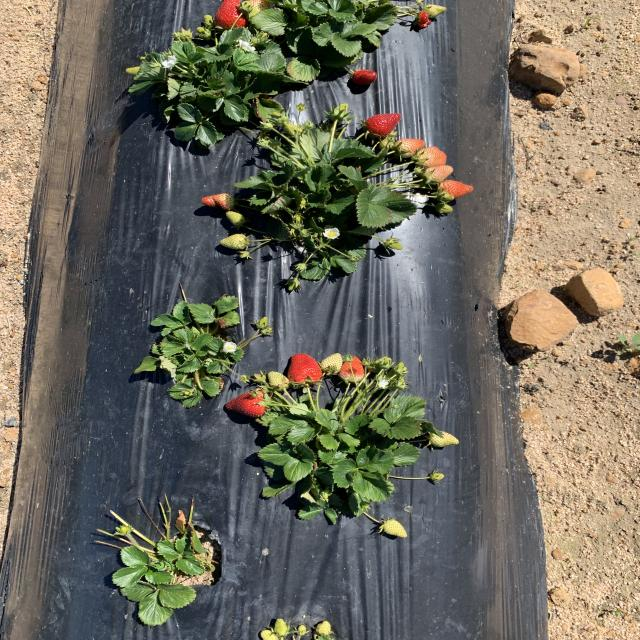unripe: (222, 389, 270, 418), (287, 354, 322, 386), (212, 0, 250, 29), (364, 111, 404, 138), (340, 354, 365, 382), (348, 69, 379, 84)
